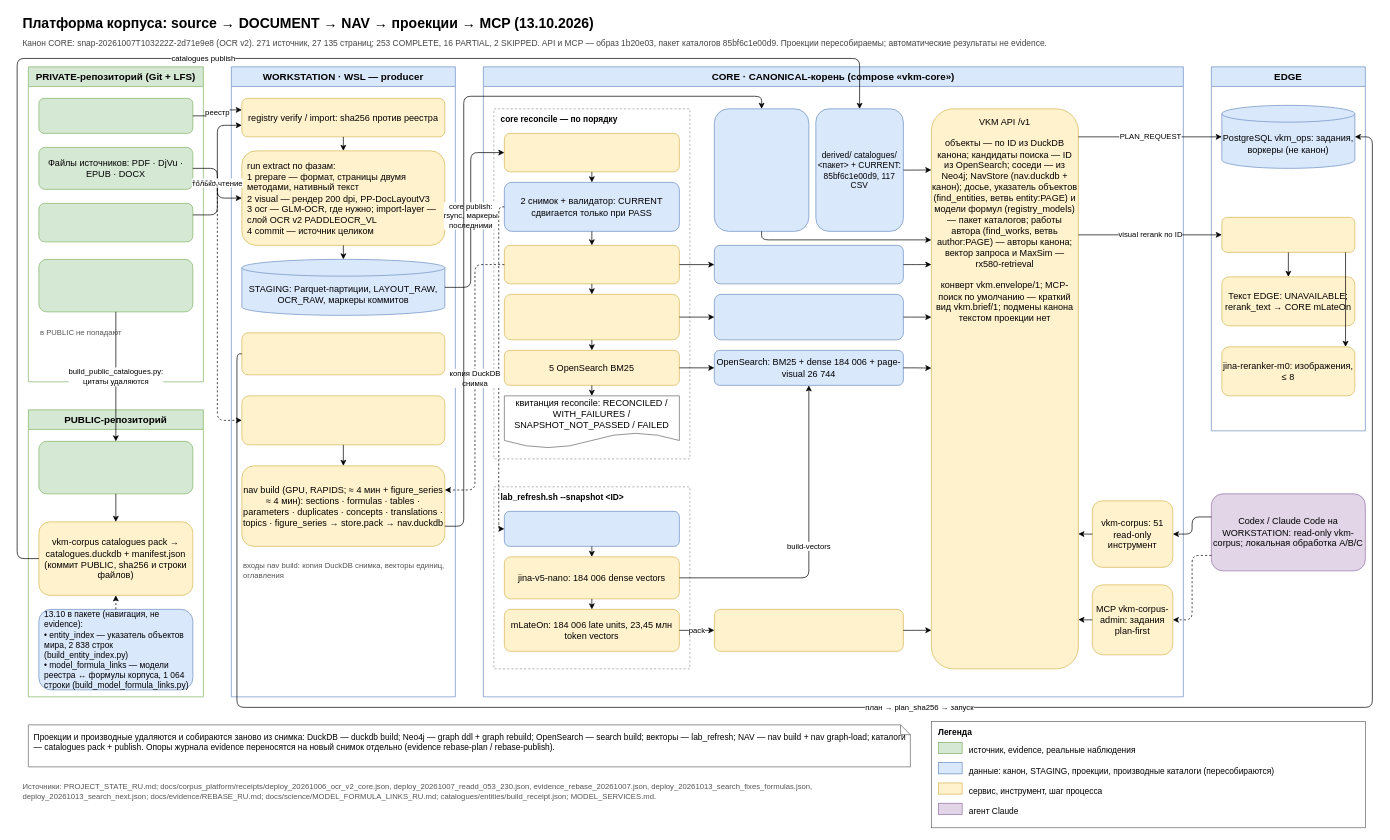
The diagram is 1390 pixels wide and 840 high, and some of its shapes have lost their labels. Here are the shapes that lost their labels. From the top down, the centre of each, then its label:
At pixel 115 115: "SOURCE_REGISTER.csv — 271 источник".
At pixel 591 152: "1 допуск коммитов: sha, схема, цепочка родителей".
At pixel 761 169: "NAV текущего снимка: nav.duckdb + CURRENT; Neo4j DOCUMENT/NAV".
At pixel 115 222: "Курируемые Work и связи (00_registry)".
At pixel 1288 234: "шлюз реранка".
At pixel 591 264: "3 DuckDB".
At pixel 808 264: "DuckDB канона (только чтение)".
At pixel 115 285: "evidence vNext (11_evidence_vnext/): полные записи с цитатами".
At pixel 591 317: "4 Neo4j DOCUMENT (wipe, проверки C1–C16)".
At pixel 808 317: "Neo4j: DOCUMENT + слой NAV".
At pixel 343 353: "Воркер заданий: план → подтверждение → запуск → публикация".
At pixel 343 420: "Оглавления файлов: закладки PDF, навигация EPUB, outline DjVu → JSON на снимок".
At pixel 115 467: "catalogues/ и evidence/ — 117 CSV без цитат (статус, scope, scale)".
At pixel 591 528: "Единицы снимка: 184 006".
At pixel 808 630: "CORE rx580-retrieval: dense, late MaxSim, Qwen3-VL page-visual query".
